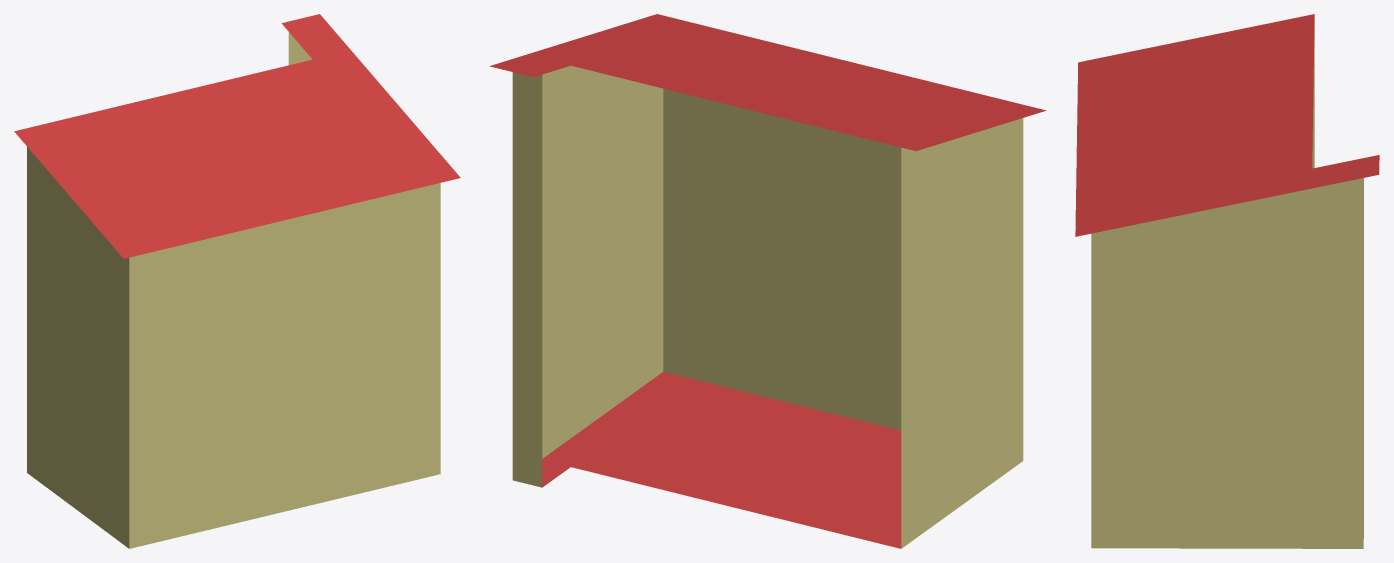
The picture shows the model from 3 angles, left to right: view 1: azimuth 30°, elevation 25°; view 2: azimuth 150°, elevation 25°; view 3: azimuth 270°, elevation 25°; orthographic projection. The views are drawn at different scales.
Bounding box in the file's own units: 6.6 × 4.84 × 6.69.
